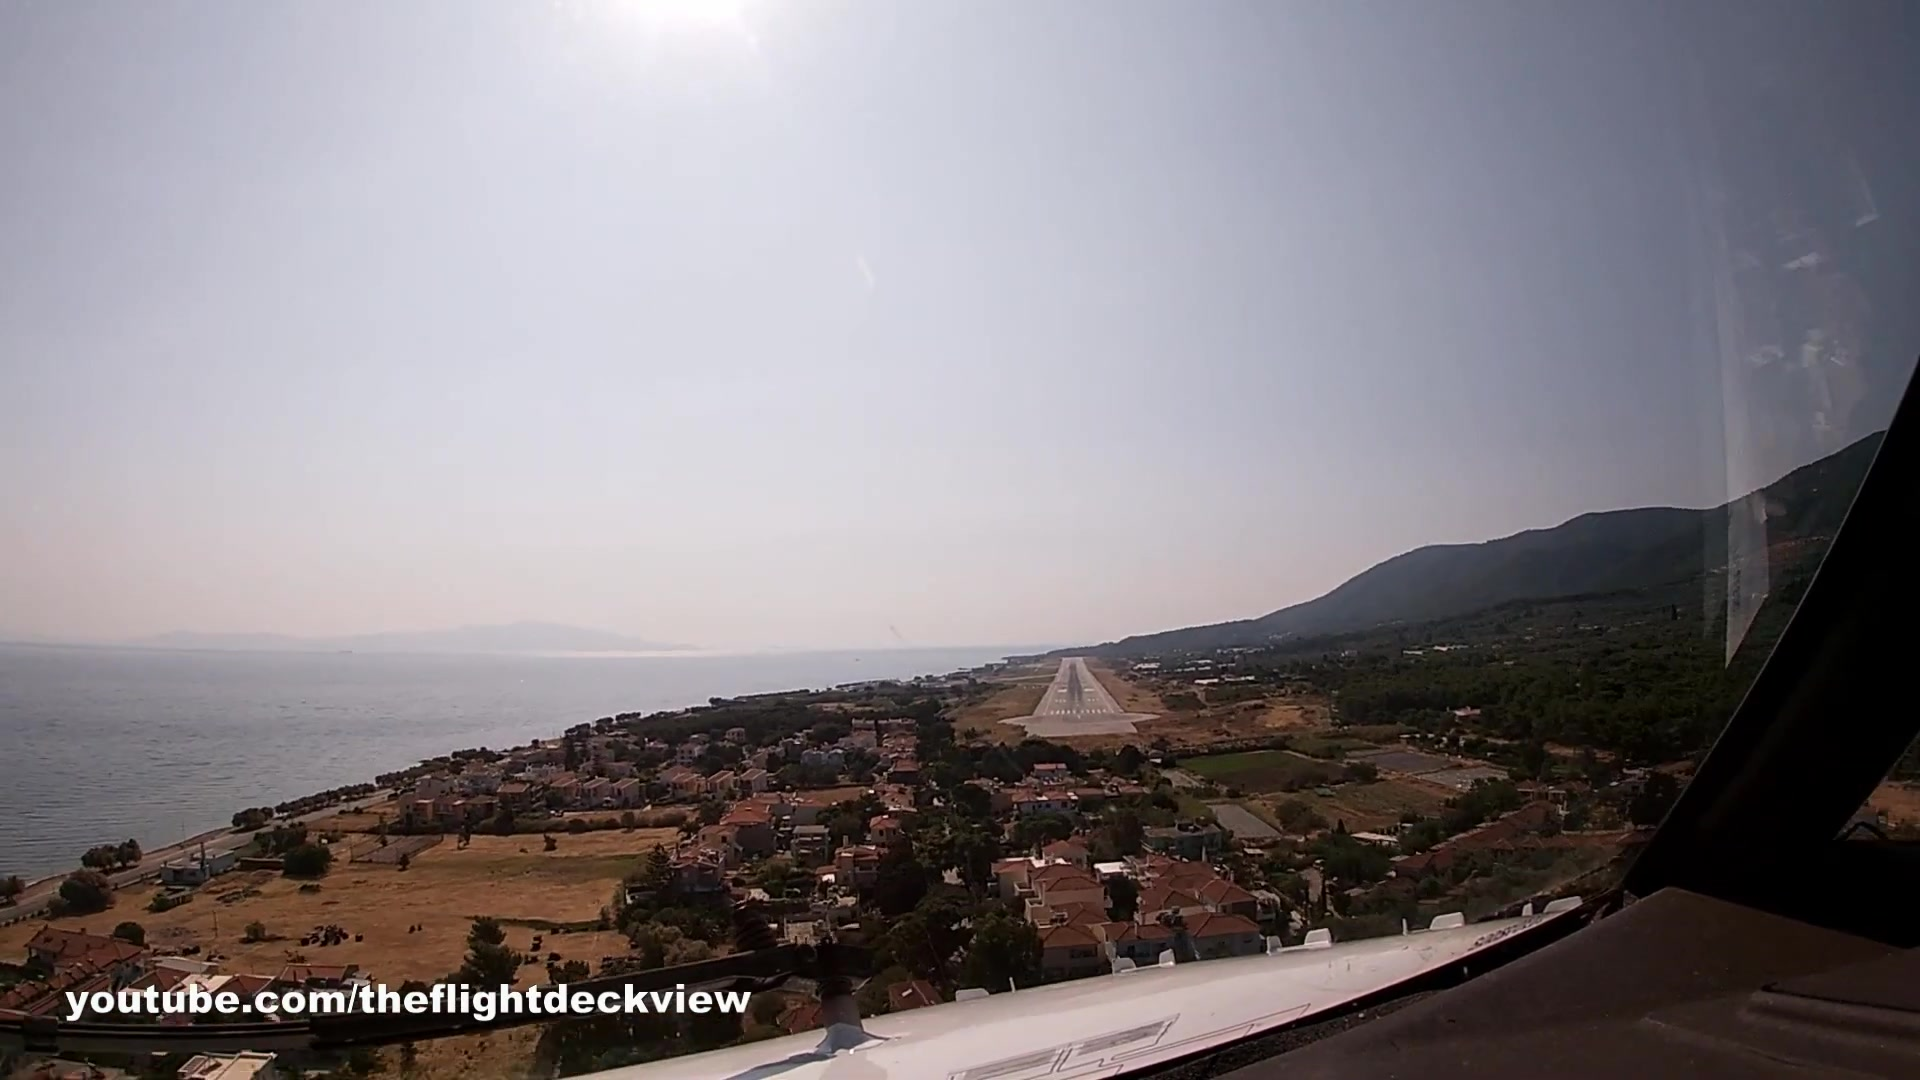entrance: (1046, 705, 1113, 717)
runway: (1033, 655, 1134, 733)
